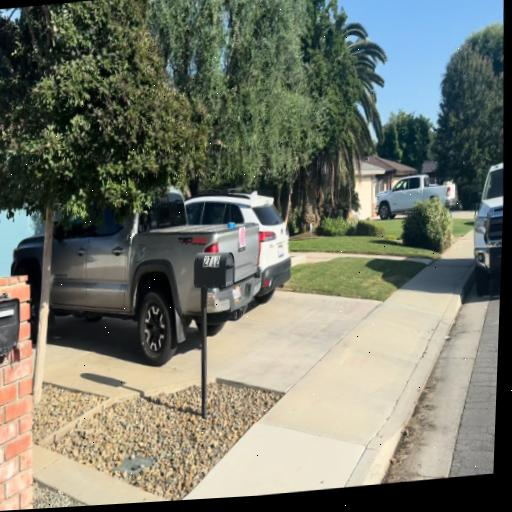bullseye: (239, 226, 245, 247)
